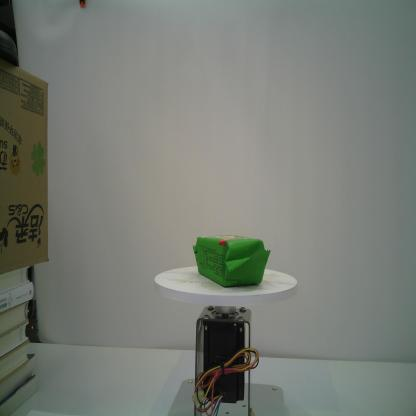Dessert: (192, 235, 271, 288)
